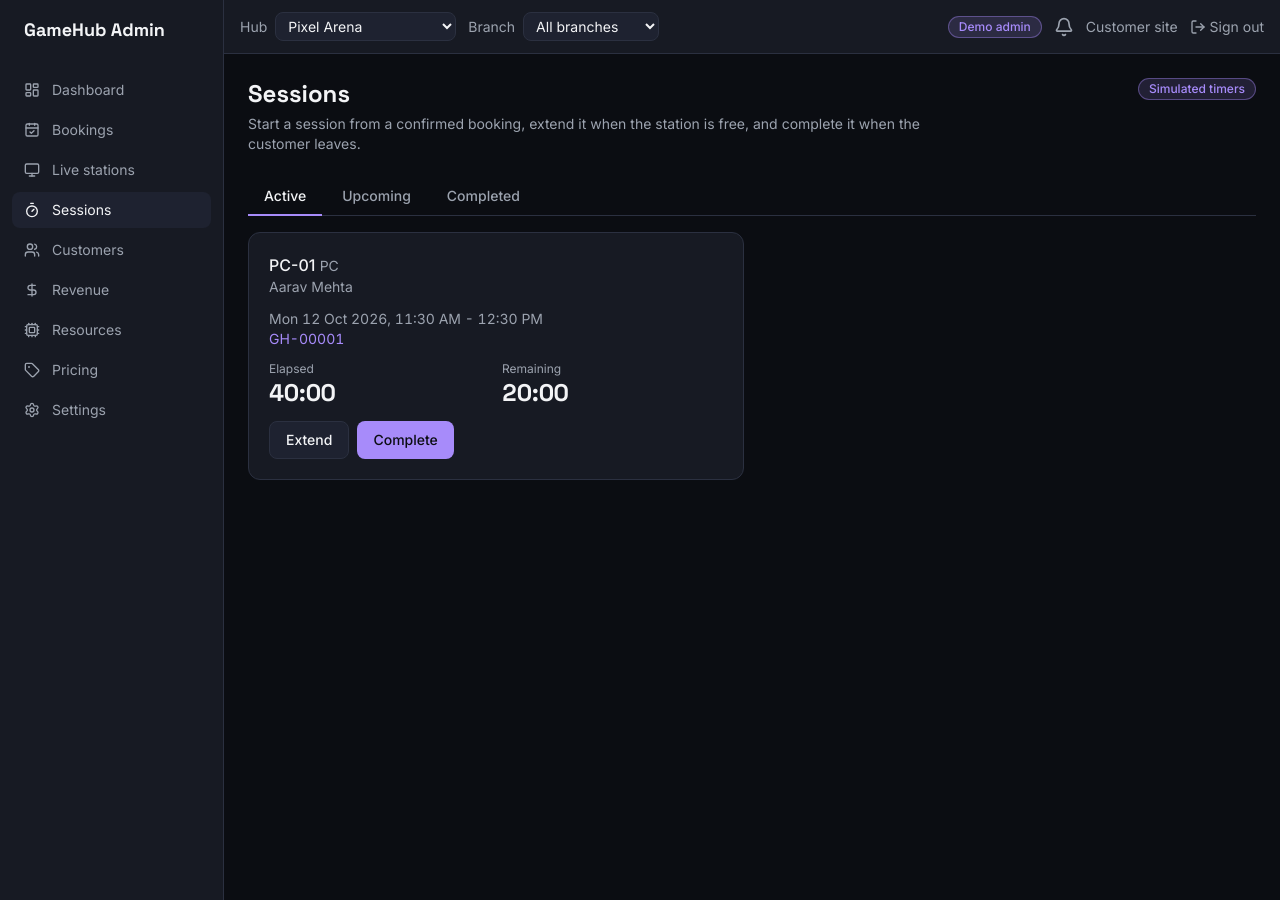
Sessions › lists completed sessions
Click the tab "Completed": (483, 197) [431, 178, 536, 216]
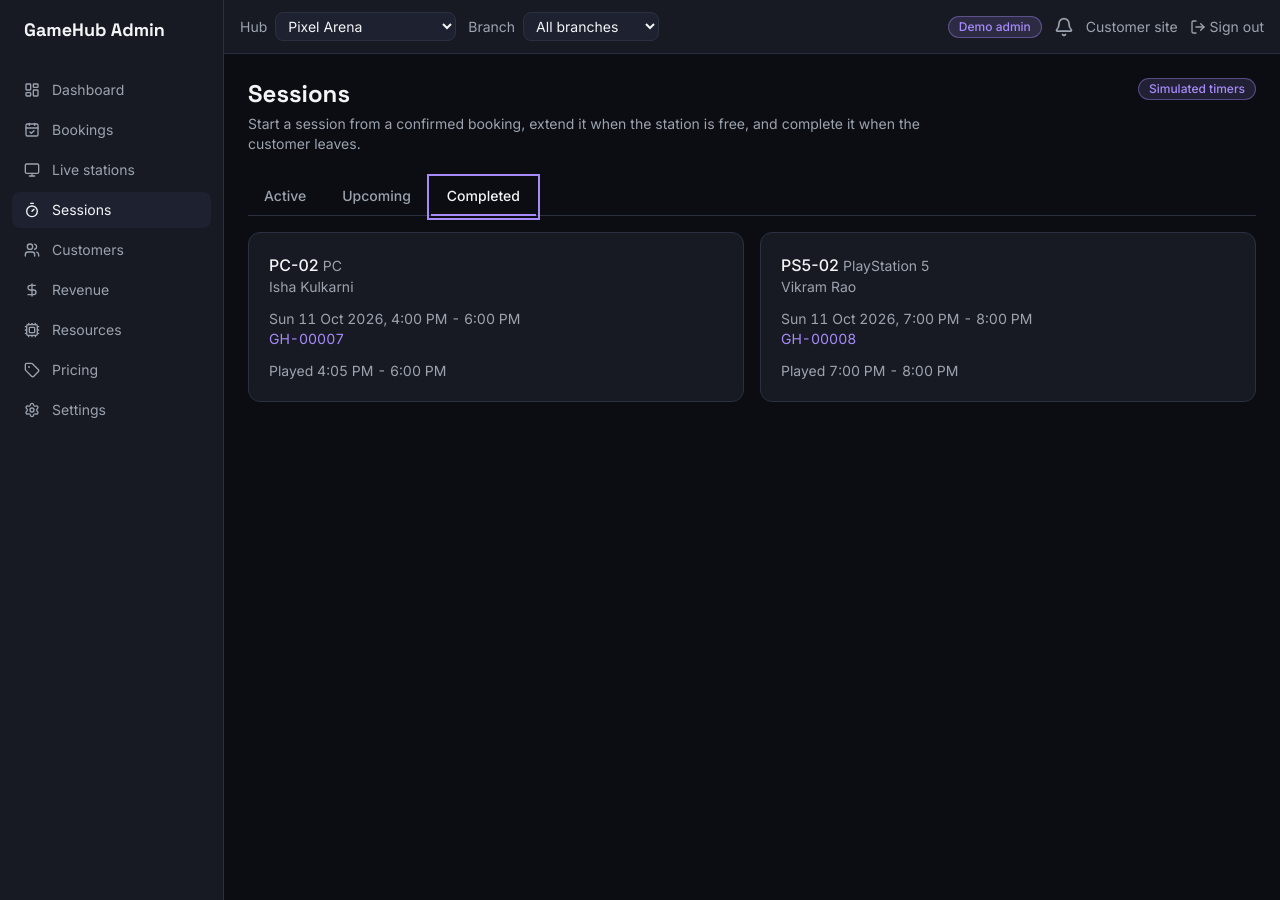
Check: the text "Played 4:05 PM - 6:00 PM" is shown, box [269, 362, 446, 379]
